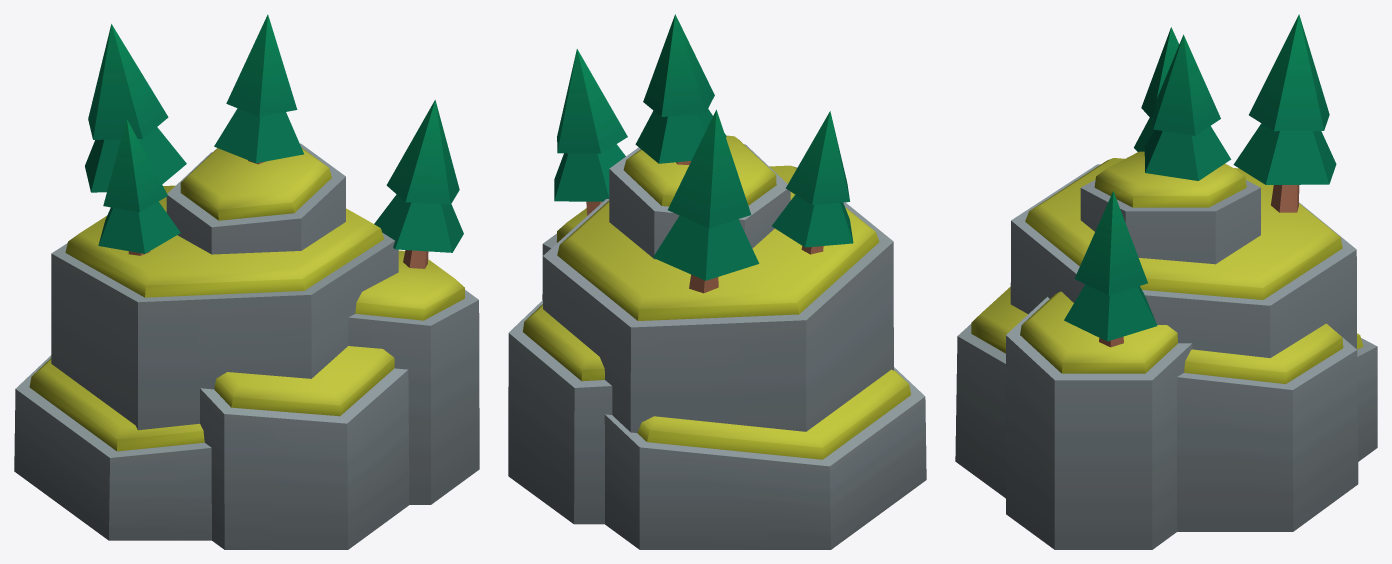
Rendered from mountain_a_grass_trees.glb.
3 views of the same model, side by side, from view 1: azimuth 30°, elevation 25°; view 2: azimuth 150°, elevation 25°; view 3: azimuth 270°, elevation 25° (orthographic).
Parts seen in each view (by area): view 1: mountain_A_grass_trees; view 2: mountain_A_grass_trees; view 3: mountain_A_grass_trees.
Part boxes in pixels (bbox=[...]): mountain_A_grass_trees: bbox=[14, 14, 479, 549]; mountain_A_grass_trees: bbox=[508, 14, 926, 549]; mountain_A_grass_trees: bbox=[955, 14, 1377, 549].
Size of the model in its own units: 1.86 by 2.18 by 1.88.
1 material, 1 textured.
